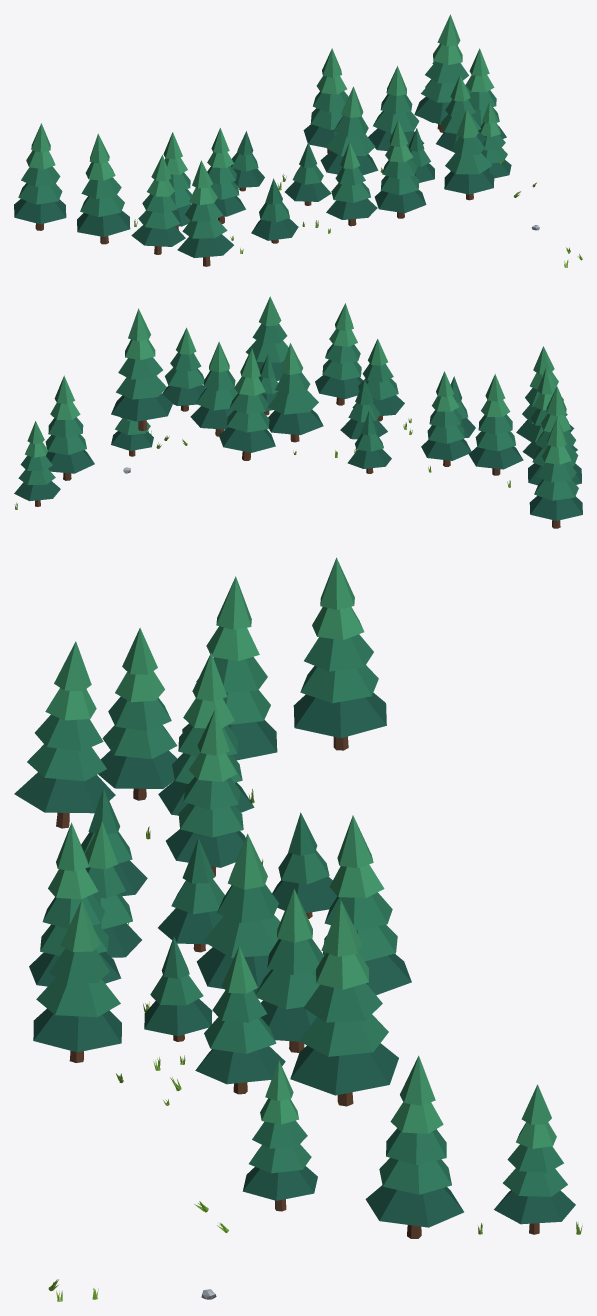
Rendered from Colony_Meadow_Scatter_D.fbx.
The picture shows the model from 3 angles, top to bottom: view 1: azimuth 30°, elevation 25°; view 2: azimuth 150°, elevation 25°; view 3: azimuth 270°, elevation 25°; orthographic projection. The views are drawn at different scales.
Visible parts, largest first — view 1: Colony_Meadow_Scatter_D.001; view 2: Colony_Meadow_Scatter_D.001; view 3: Colony_Meadow_Scatter_D.001.
Boxes of the visible parts, x1=… form: Colony_Meadow_Scatter_D.001: x1=14, y1=14, x2=582, y2=267; Colony_Meadow_Scatter_D.001: x1=14, y1=296, x2=582, y2=528; Colony_Meadow_Scatter_D.001: x1=14, y1=557, x2=582, y2=1301.
Bounding box in the file's own units: 24.88 × 9.46 × 13.51.
